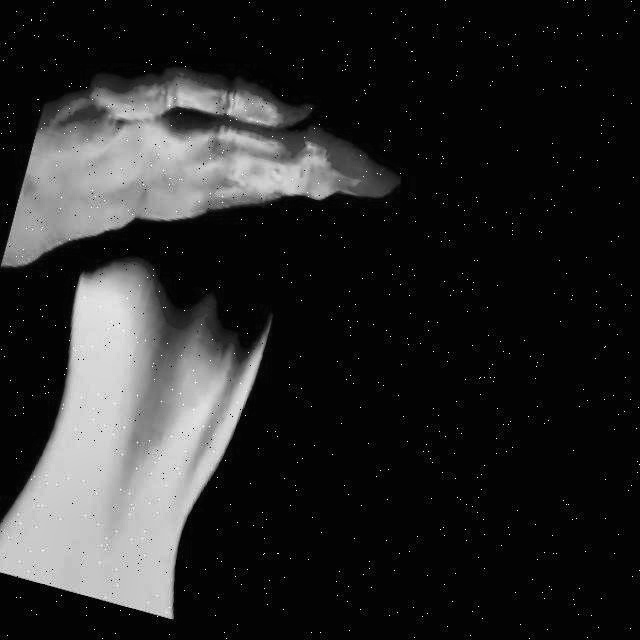Fire: (49, 154, 315, 580)
